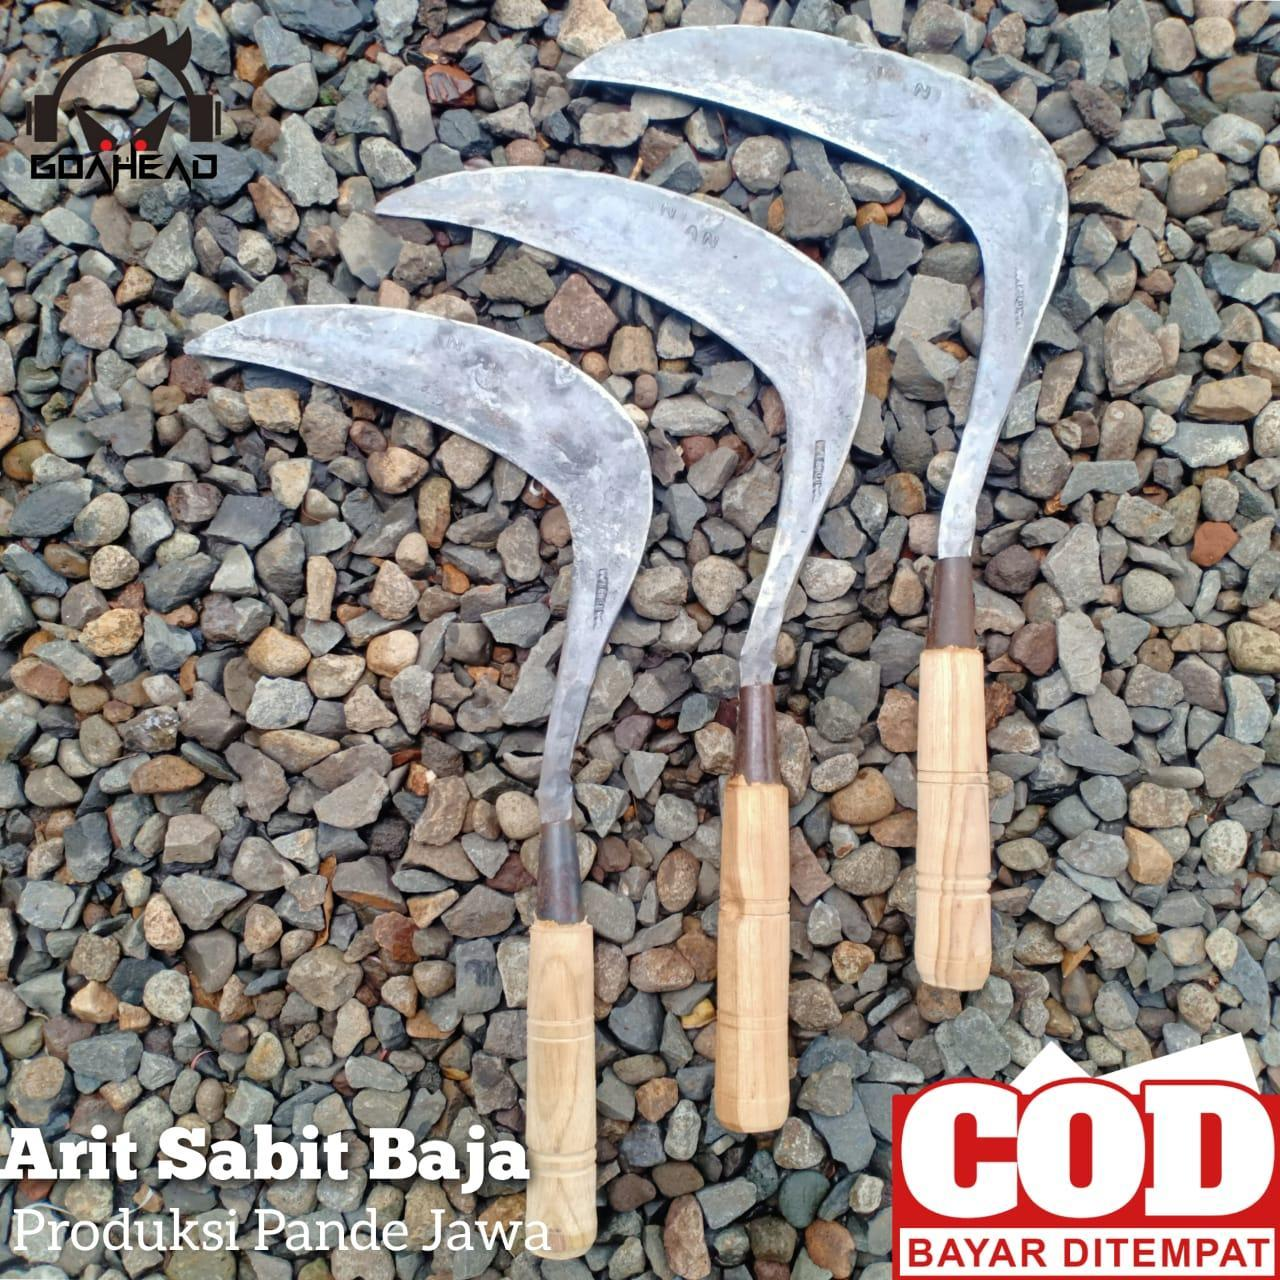foice: (568, 28, 1070, 986), (380, 166, 869, 1141), (195, 300, 651, 1262)
